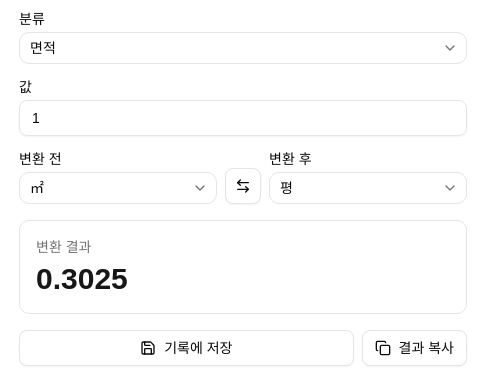
Test case: UnitCalculator › disables the save button until there is a valid result
The image size is (487, 383).
Clear the field labelled "값" at (243, 118), box x1=19 y1=100 x2=467 y2=136
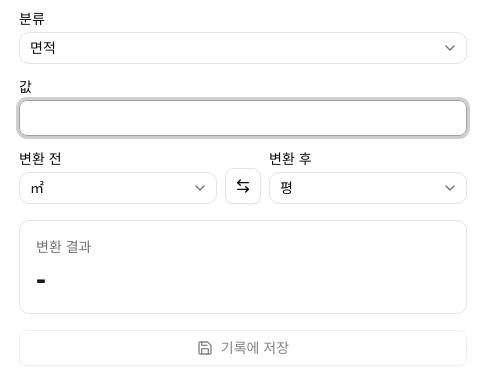
Now the button "기록에 저장" is disabled, box x1=19 y1=330 x2=467 y2=366
